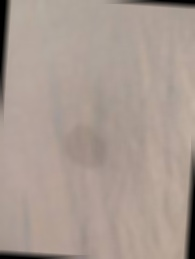oil: (62, 121, 116, 173)
